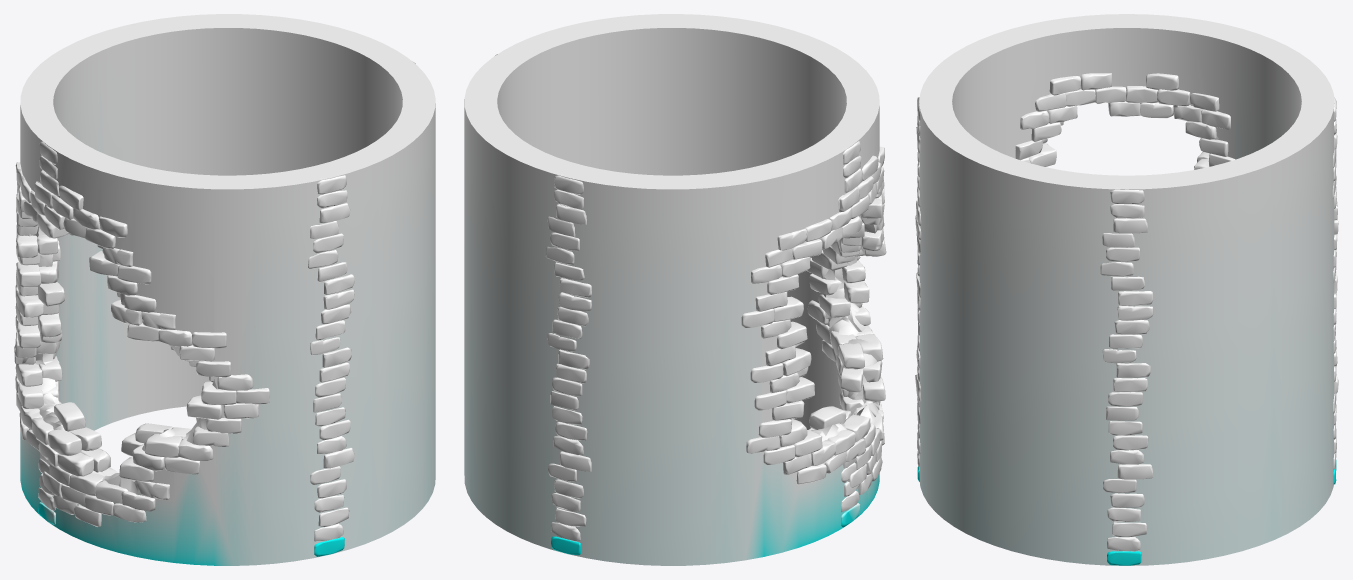
File: SM_TowerRound_Head_8m_A_Damage_B.fbx
The picture shows the model from 3 angles, left to right: view 1: azimuth 30°, elevation 25°; view 2: azimuth 150°, elevation 25°; view 3: azimuth 270°, elevation 25°; orthographic projection.
Visible parts, largest first — view 1: SM_TowerRound_Head_8m_A_Damage_B_LOD0; view 2: SM_TowerRound_Head_8m_A_Damage_B_LOD0; view 3: SM_TowerRound_Head_8m_A_Damage_B_LOD0.
Part boxes in pixels (x1,y1,x2,y2): SM_TowerRound_Head_8m_A_Damage_B_LOD0: (14, 14, 435, 565); SM_TowerRound_Head_8m_A_Damage_B_LOD0: (464, 14, 886, 565); SM_TowerRound_Head_8m_A_Damage_B_LOD0: (915, 14, 1338, 565).
Bounding box in the file's own units: 817 × 815 × 800.
